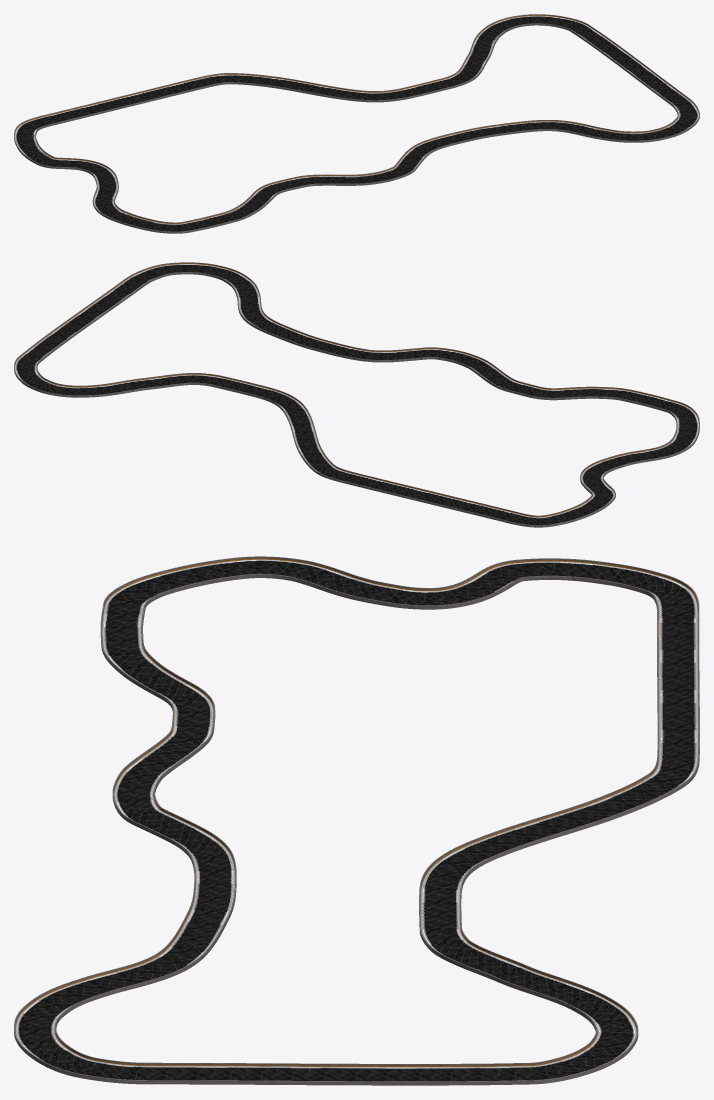
The model's file is Futuristic Track.fbx.
The picture shows the model from 3 angles, top to bottom: view 1: azimuth 30°, elevation 25°; view 2: azimuth 150°, elevation 25°; view 3: azimuth 270°, elevation 25°; orthographic projection. The views are drawn at different scales.
Parts seen in each view (by area): view 1: Futuristic Track; view 2: Futuristic Track; view 3: Futuristic Track.
Boxes of the visible parts, left/top/right/bottom form: Futuristic Track: left=14, top=14, right=699, bottom=233; Futuristic Track: left=14, top=262, right=699, bottom=527; Futuristic Track: left=14, top=556, right=699, bottom=1085.
Bounding box in the file's own units: 467 × 1.54 × 258.
Materials: 1 (1 with a texture image).
